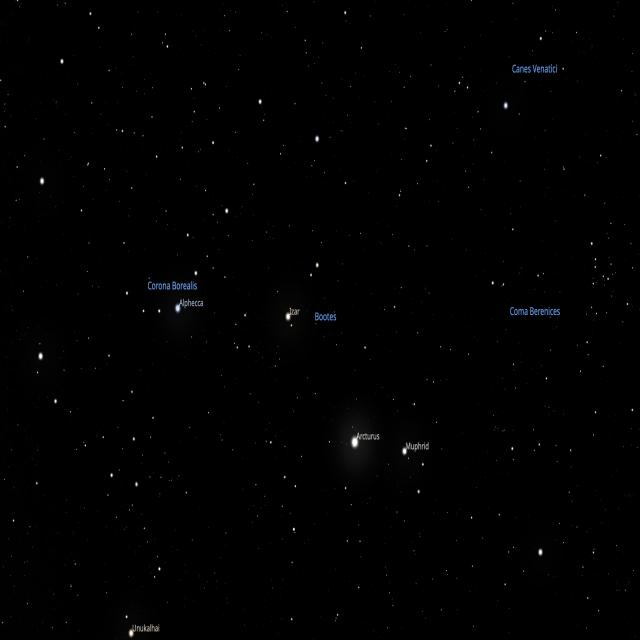Bootes: (222, 87, 423, 538)
